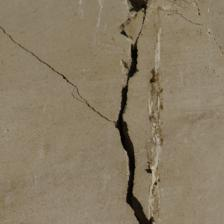Crack: (3, 29, 115, 122), (111, 46, 156, 223), (145, 39, 169, 223), (113, 1, 156, 45)
